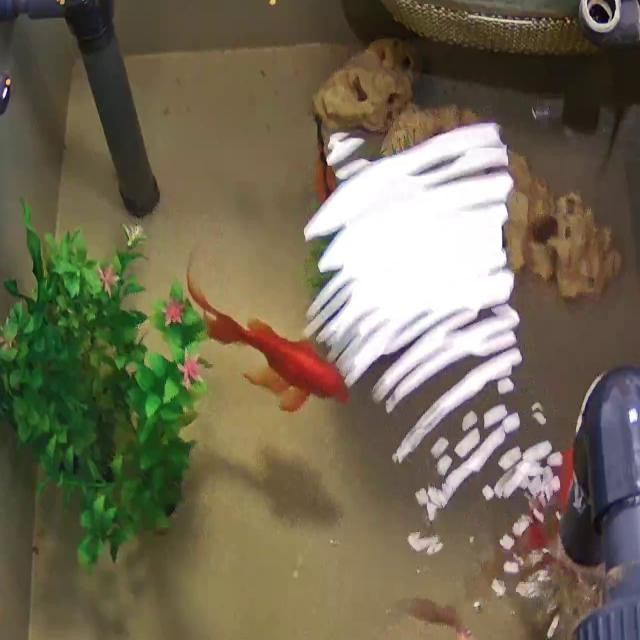fish: (188, 256, 352, 428), (514, 450, 570, 556)
